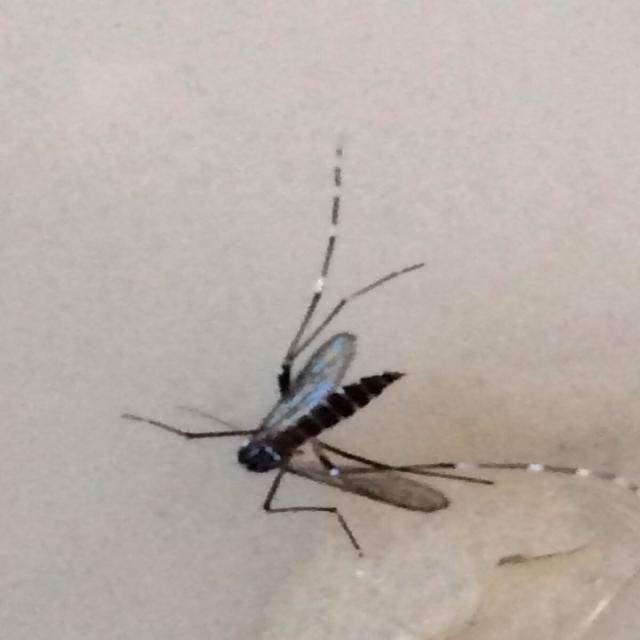albopictus: (110, 168, 584, 583)
